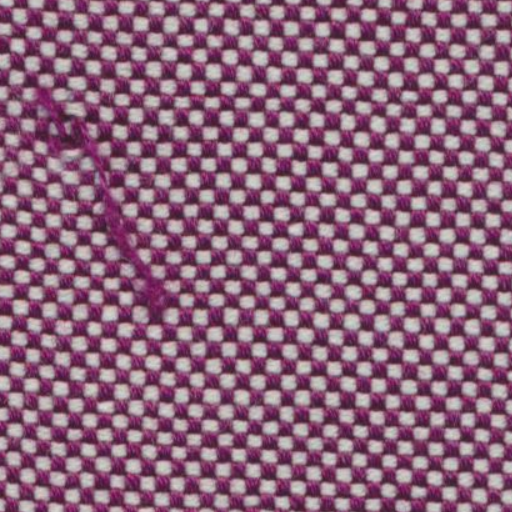DuanSha: (20, 55, 181, 327)
